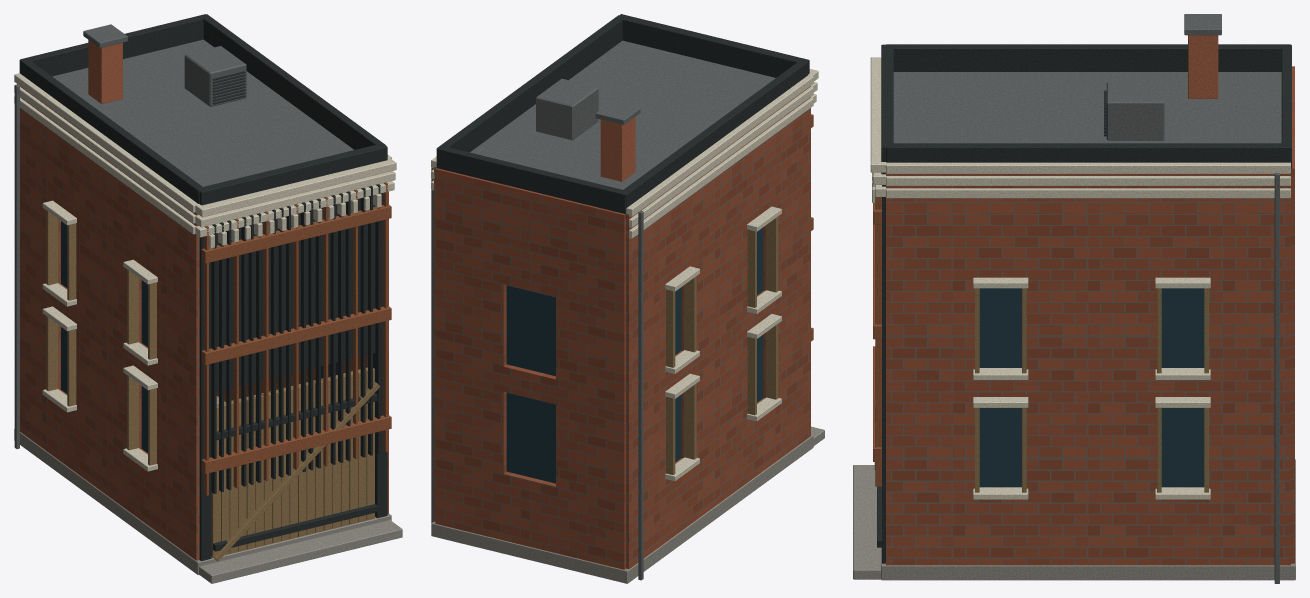
Rendered from WRHS5_lod1.glb.
The picture shows the model from 3 angles, left to right: view 1: azimuth 30°, elevation 25°; view 2: azimuth 150°, elevation 25°; view 3: azimuth 270°, elevation 25°; orthographic projection. The views are drawn at different scales.
Visible parts, largest first — view 1: WRHS5_LOD1; view 2: WRHS5_LOD1; view 3: WRHS5_LOD1.
Part boxes in pixels (bbox=[...]): WRHS5_LOD1: bbox=[14, 14, 402, 583]; WRHS5_LOD1: bbox=[431, 14, 824, 583]; WRHS5_LOD1: bbox=[853, 14, 1295, 583].
Size of the model in its own units: 4.11 by 7.85 by 6.57.
9 materials, 8 textured.
